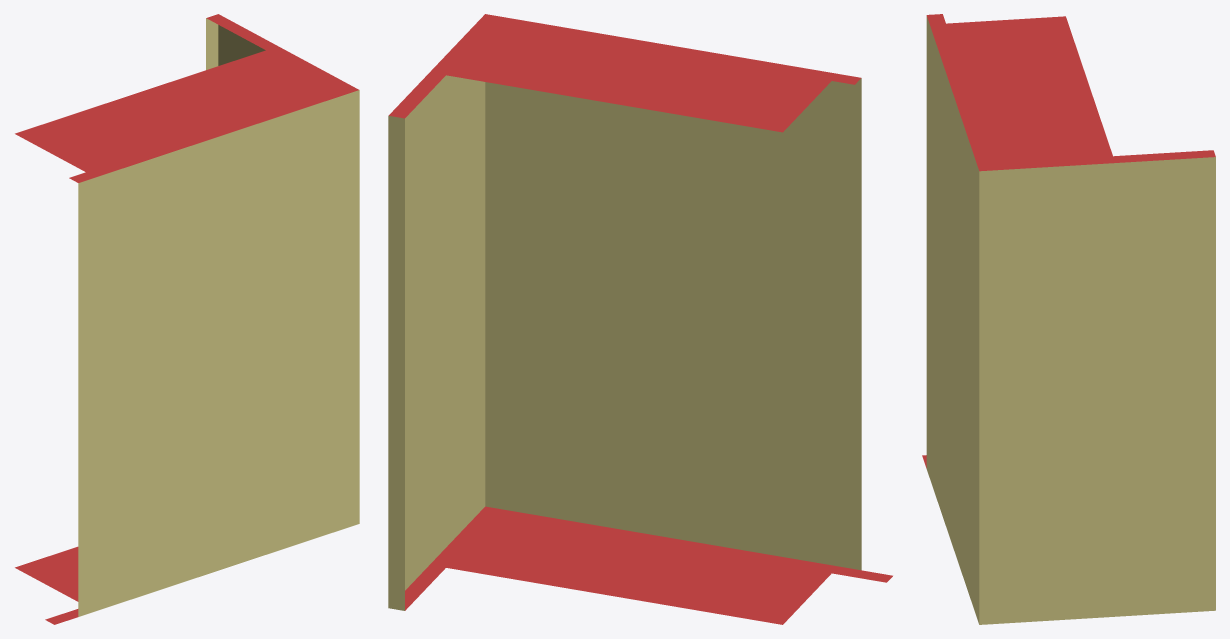
3 views of the same model, side by side, from view 1: azimuth 30°, elevation 25°; view 2: azimuth 150°, elevation 25°; view 3: azimuth 270°, elevation 25° (orthographic). The views are drawn at different scales.
Bounding box in the file's own units: 6.15 × 4.48 × 7.63.
